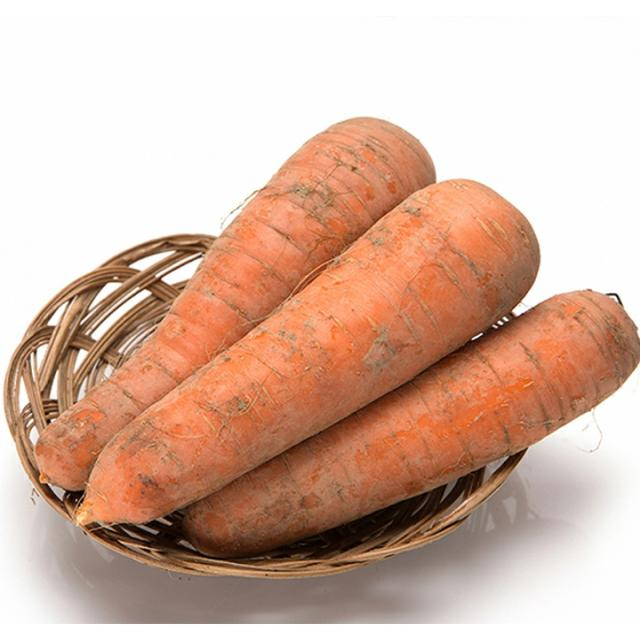carrot: (77, 176, 543, 537), (37, 116, 443, 494), (171, 288, 638, 568)
